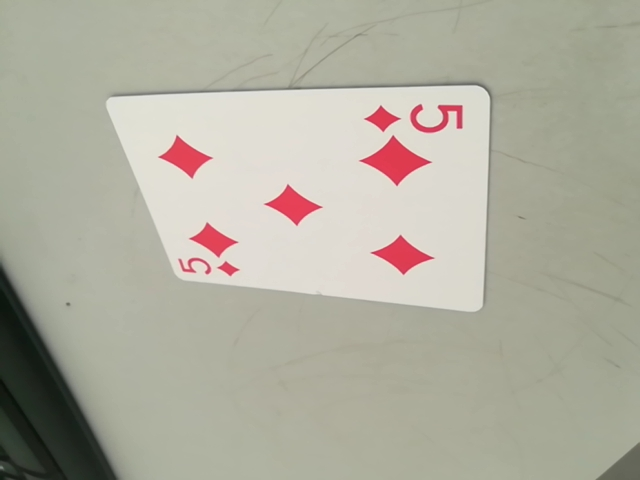fk 5: (363, 95, 466, 136), (175, 251, 243, 281)
